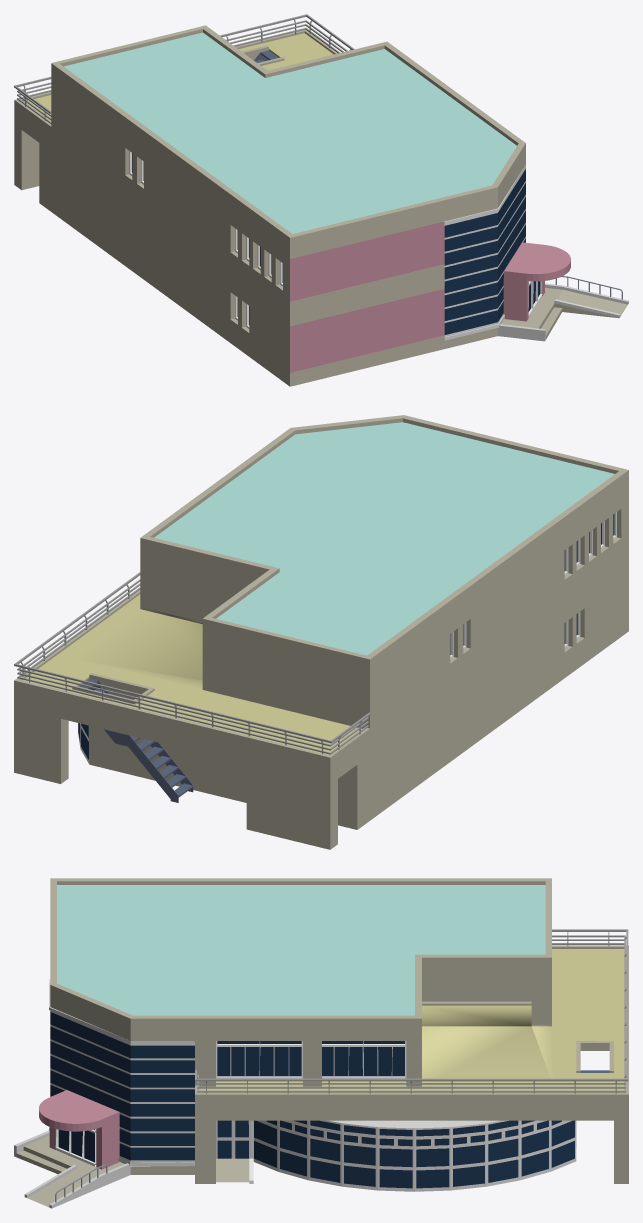
File: Building_M.fbx
3 renders of one model, top to bottom at view 1: azimuth 30°, elevation 25°; view 2: azimuth 150°, elevation 25°; view 3: azimuth 270°, elevation 25°, orthographic. The views are drawn at different scales.
Parts seen in each view (by area): view 1: Building_M; view 2: Building_M; view 3: Building_M.
Part boxes in pixels (left/top/right/bottom): Building_M: left=14, top=14, right=628, bottom=386; Building_M: left=14, top=415, right=628, bottom=849; Building_M: left=14, top=878, right=628, bottom=1208.
Bounding box in the file's own units: 23.48 × 9.81 × 34.98.
